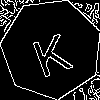K: (26, 24, 74, 78)
